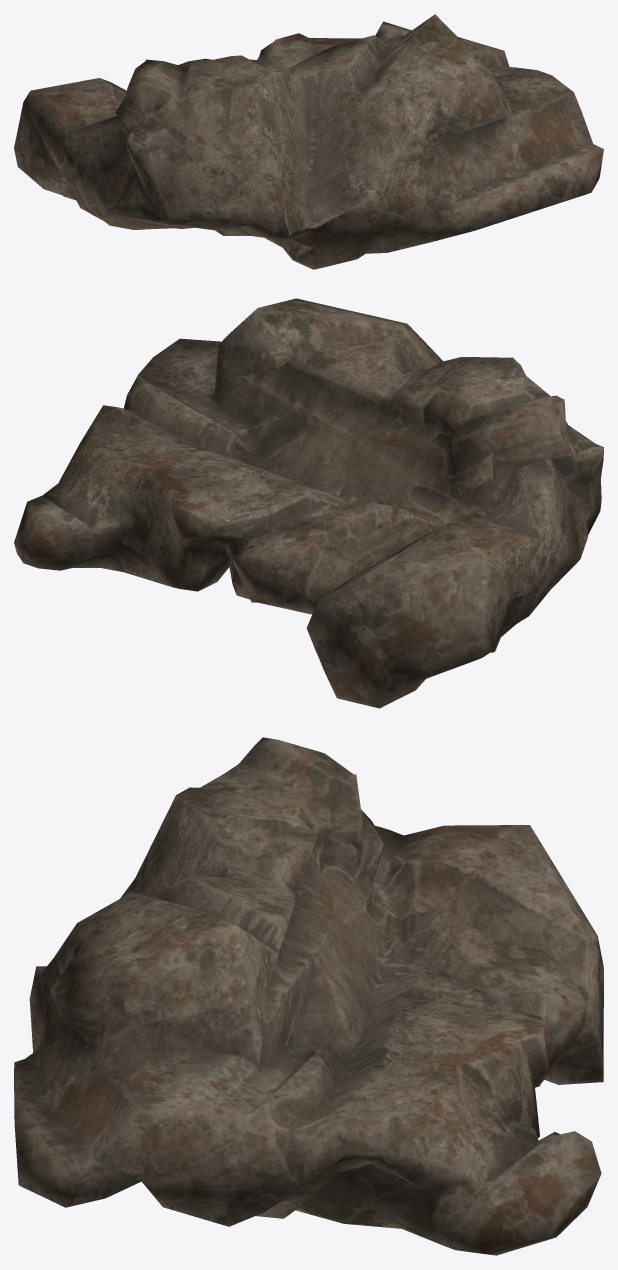
File: Rock_01.glb
3 renders of one model, top to bottom at view 1: azimuth 30°, elevation 25°; view 2: azimuth 150°, elevation 25°; view 3: azimuth 270°, elevation 25°, orthographic. The views are drawn at different scales.
Visible parts, largest first — view 1: Rock_kk_Rock_kk_Material_0; view 2: Rock_kk_Rock_kk_Material_0; view 3: Rock_kk_Rock_kk_Material_0.
Boxes of the visible parts, left/top/right/bottom form: Rock_kk_Rock_kk_Material_0: left=14, top=14, right=603, bottom=269; Rock_kk_Rock_kk_Material_0: left=14, top=298, right=603, bottom=708; Rock_kk_Rock_kk_Material_0: left=14, top=737, right=603, bottom=1255.
Bounding box in the file's own units: 2 × 0.9474 × 1.71.
Materials: 1 (1 with a texture image).
